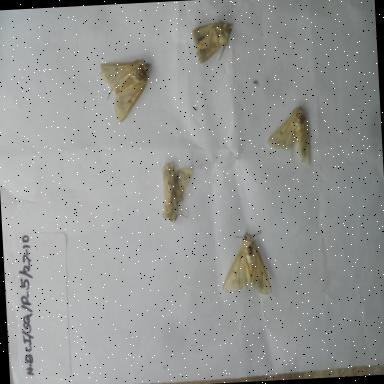abw: (92, 51, 158, 128), (216, 227, 274, 302), (261, 98, 317, 172), (154, 156, 199, 228), (184, 16, 238, 70)
